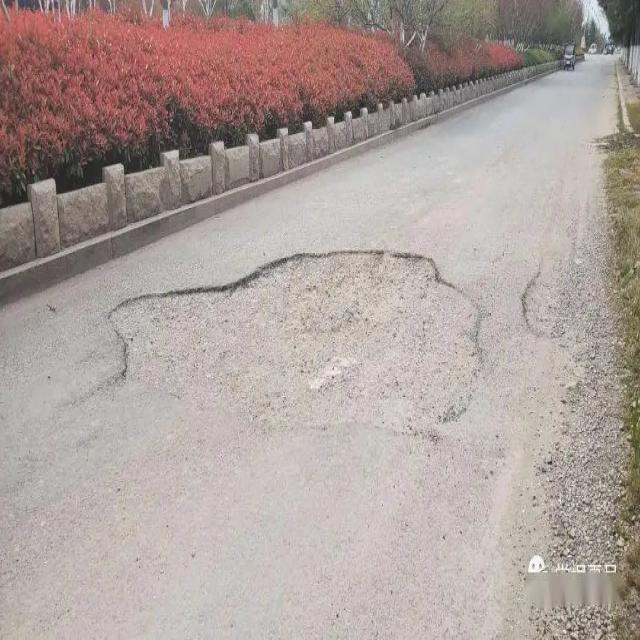Pothole: (108, 249, 483, 440), (522, 257, 578, 342)
